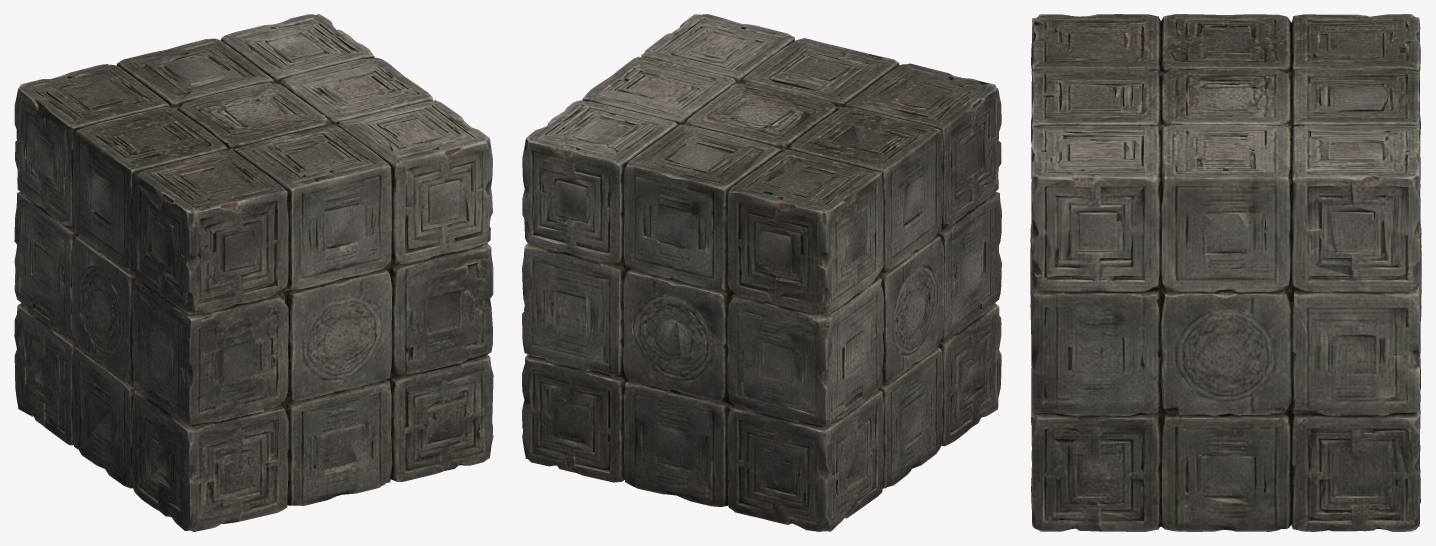
File: nine-palace.glb
3 views of the same model, side by side, from view 1: azimuth 30°, elevation 25°; view 2: azimuth 150°, elevation 25°; view 3: azimuth 270°, elevation 25° (orthographic). The views are drawn at different scales.
Parts seen in each view (by area): view 1: geometry_0; view 2: geometry_0; view 3: geometry_0.
Part boxes in pixels (<box>): geometry_0: <box>14,14,493,531</box>; geometry_0: <box>522,14,1001,531</box>; geometry_0: <box>1030,14,1421,531</box>.
Size of the model in its own units: 0.3 by 0.3 by 0.2999.
Materials: 1 (1 with a texture image).
